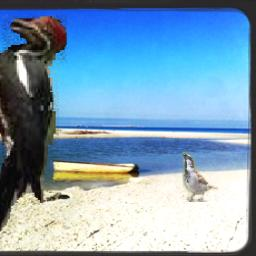Sparrow: (183, 153, 218, 203)
Woodpecker: (0, 15, 68, 253)
